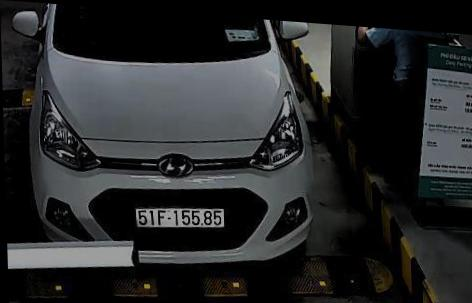License_Plate: (132, 199, 232, 237)
